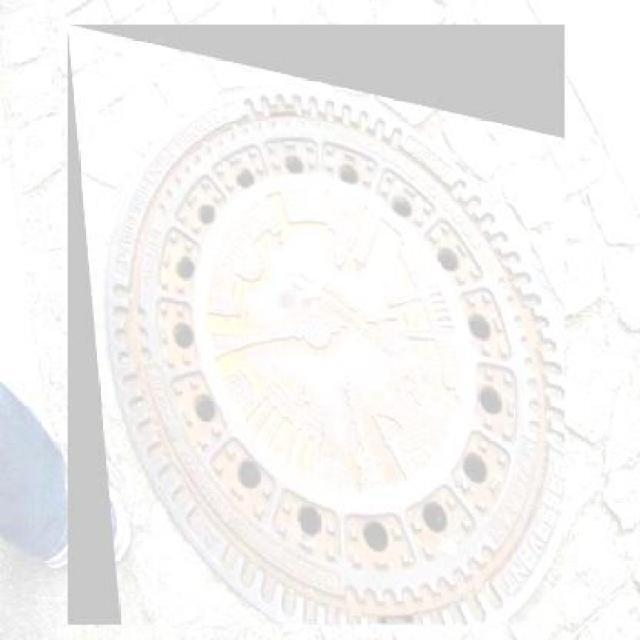Manhole: (68, 24, 564, 626)
